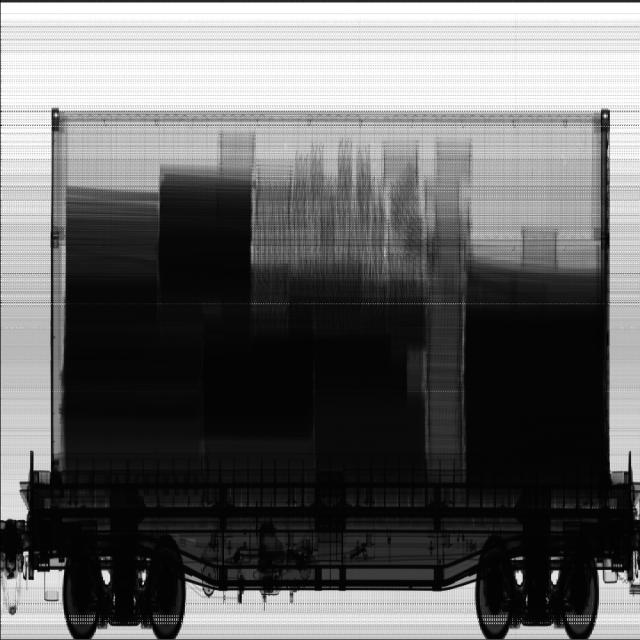lamps: (253, 138, 385, 266)
